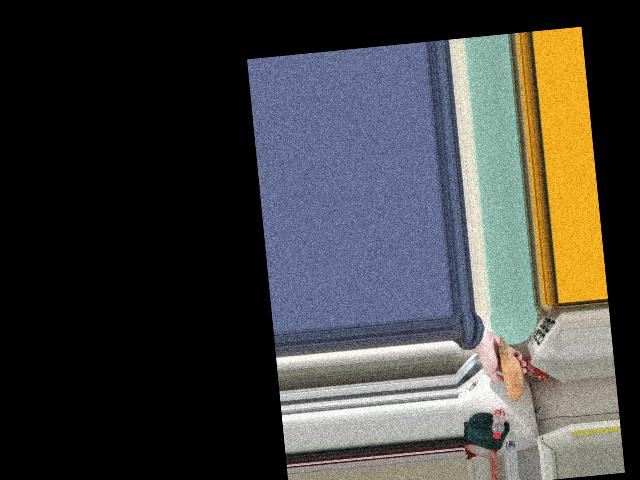sweet_potato: (496, 340, 524, 396)
